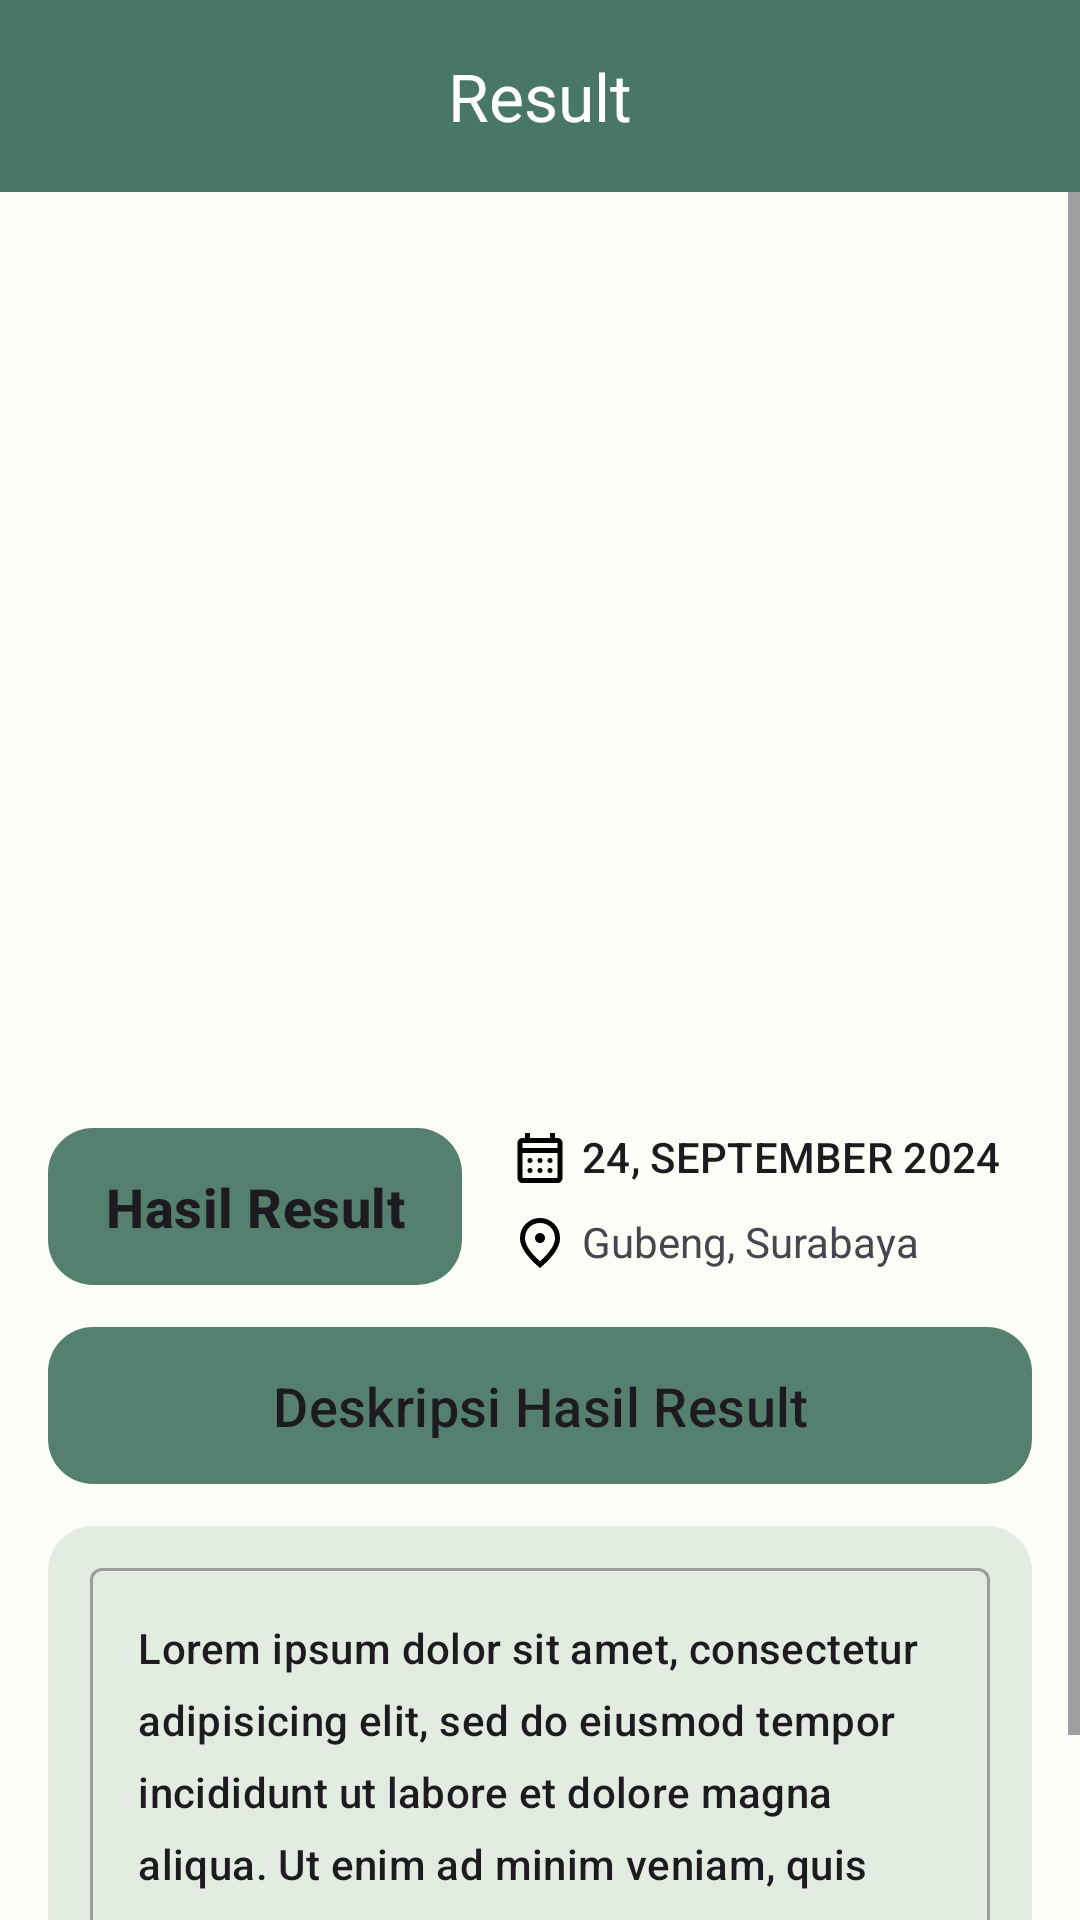

Icons on this 1080 x 1920 Android screen, each with its box as detection(x1, y1, x2, y2):
calendar: detection(517, 1133, 563, 1183)
location: detection(520, 1218, 560, 1268)
